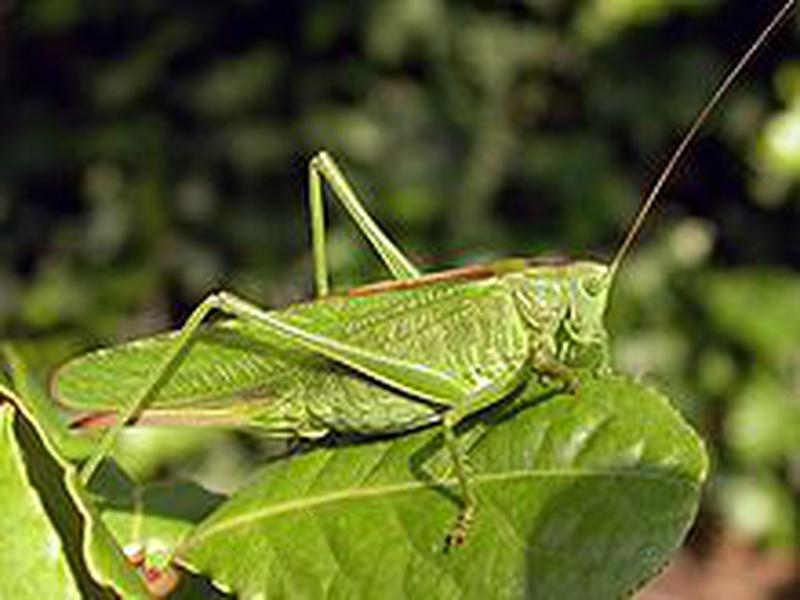Grasshopper: (49, 225, 626, 454)
